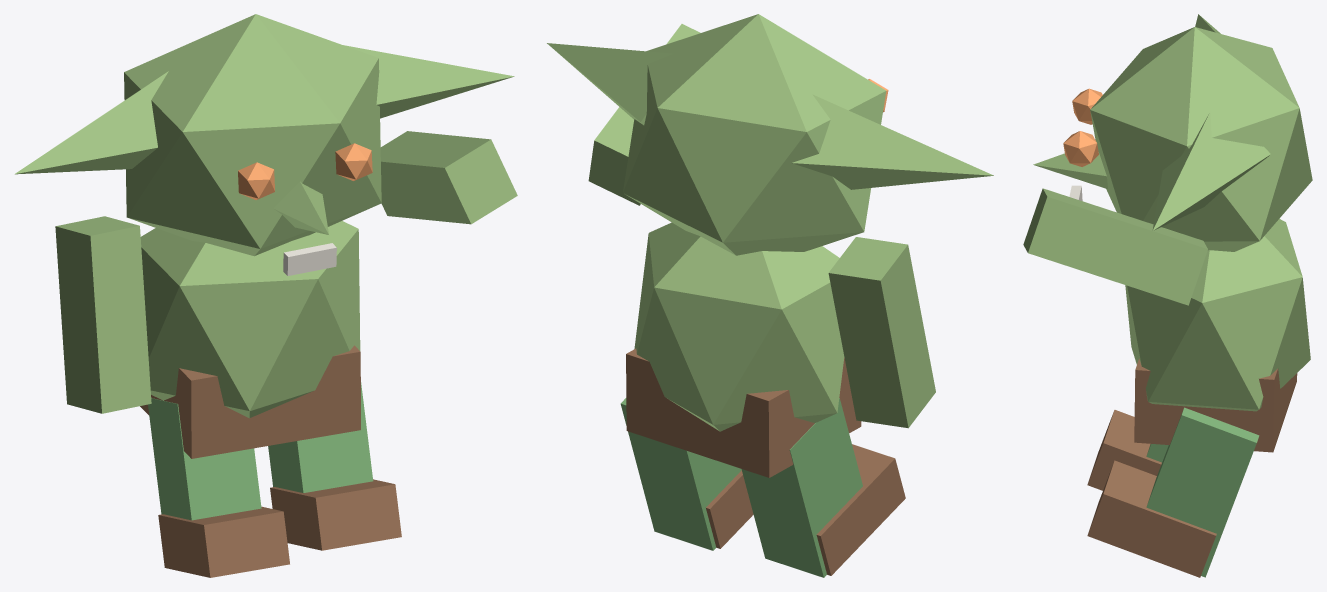
The model's file is npcpose_goblin_attack_03.glb.
3 views of the same model, side by side, from view 1: azimuth 30°, elevation 25°; view 2: azimuth 150°, elevation 25°; view 3: azimuth 270°, elevation 25° (orthographic). The views are drawn at different scales.
Visible parts, largest first — view 1: npcpose; view 2: npcpose; view 3: npcpose.
Boxes of the visible parts, bbox=[...] form: npcpose: bbox=[14, 14, 517, 577]; npcpose: bbox=[547, 14, 993, 577]; npcpose: bbox=[1023, 14, 1312, 577].
Size of the model in its own units: 1.02 by 1.11 by 0.5771.
